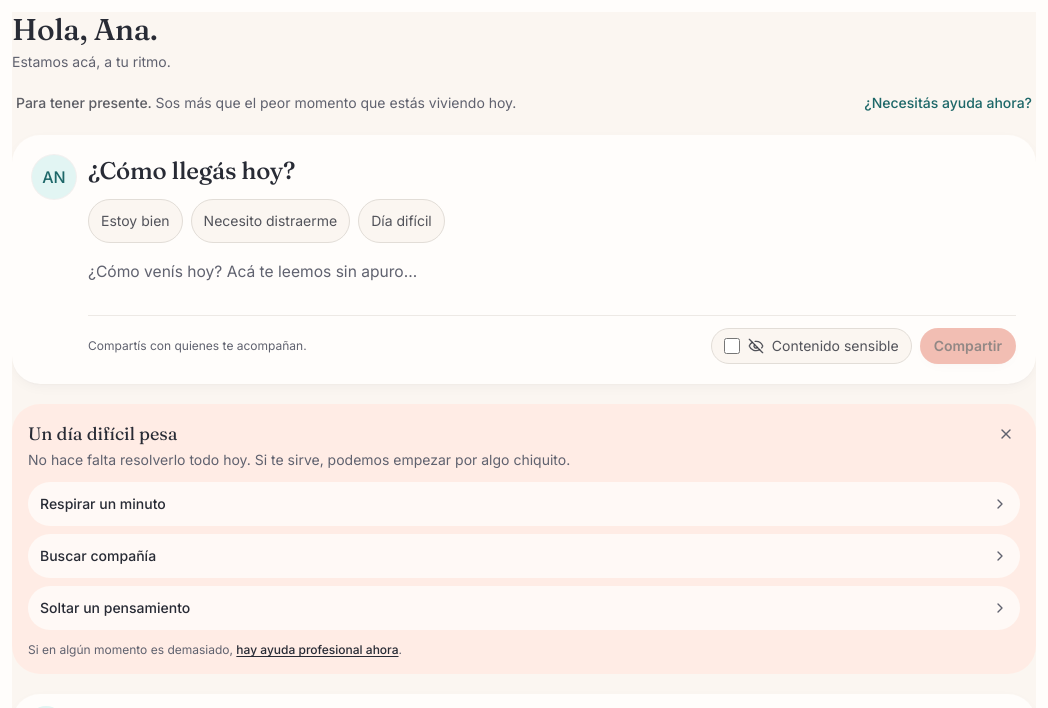
Scenario: FeedPage · respuesta cuidada al ánimo › remembers today's mood after a reload, but "Ahora no" closes it for the rest of the day
What coordinates should you click on to do the following:
click the button named "Ahora no"
I would click on:
 (1006, 434)
Its box is [988,416,1024,452].
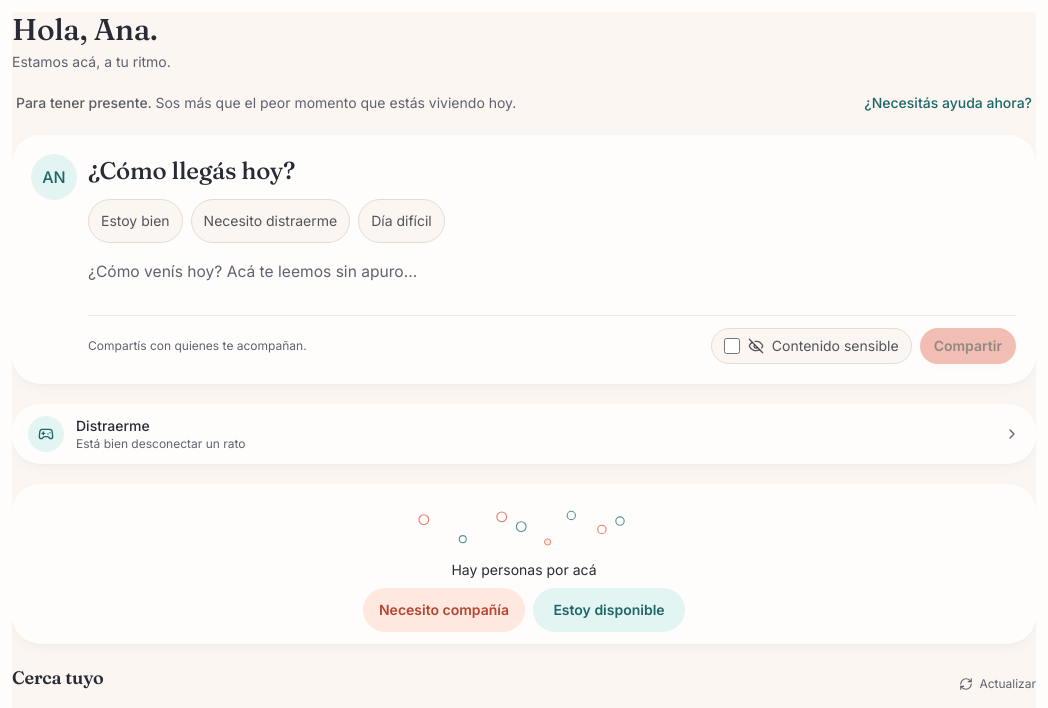
Expected: the text "Un día difícil pesa" is gone
